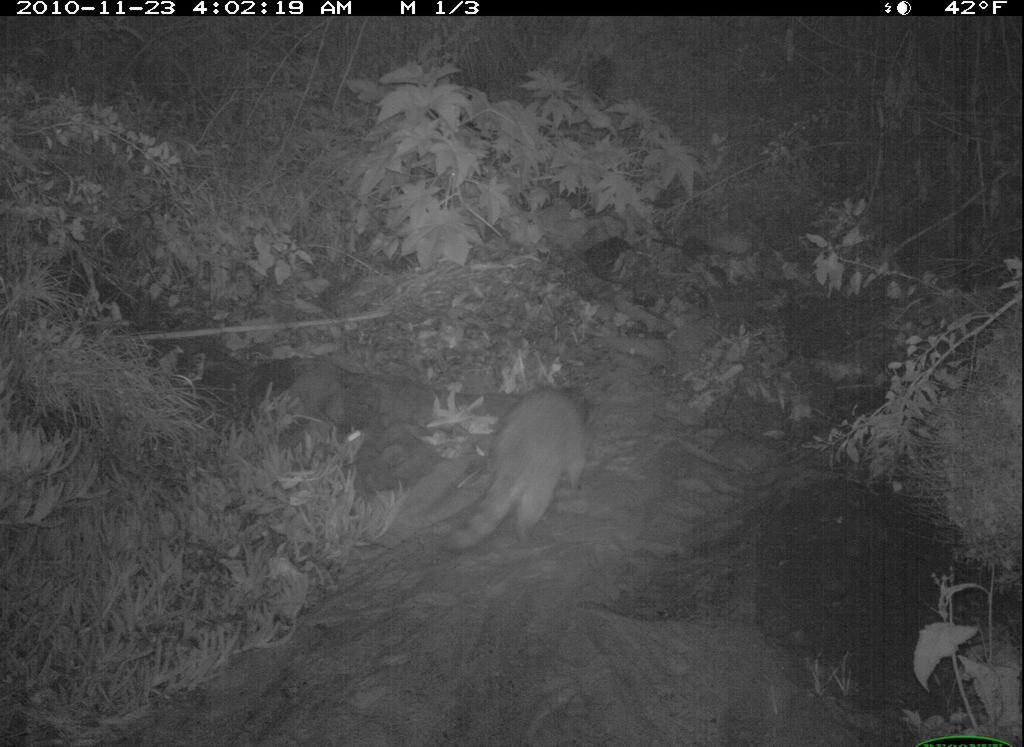raccoon: (437, 365, 628, 557)
